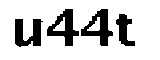4: (79, 6, 114, 48), (44, 7, 79, 48)
t: (115, 10, 141, 51)
u: (10, 15, 42, 49)
